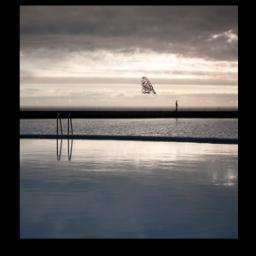Sparrow: (141, 77, 155, 95)
